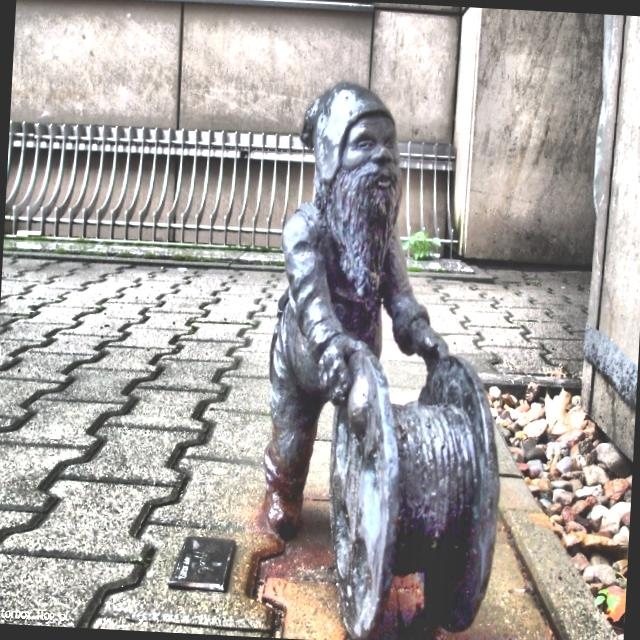Lappek: (263, 82, 501, 640)
